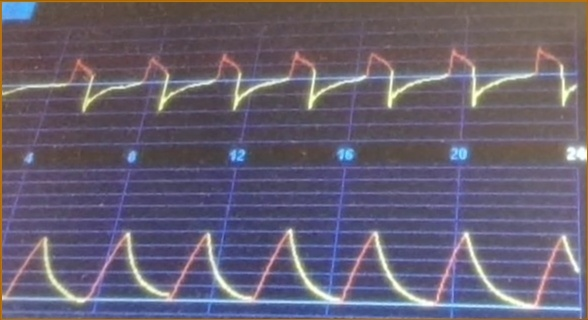Normal Flow: (3, 36, 577, 131)
Normal Volume: (3, 217, 579, 313)
